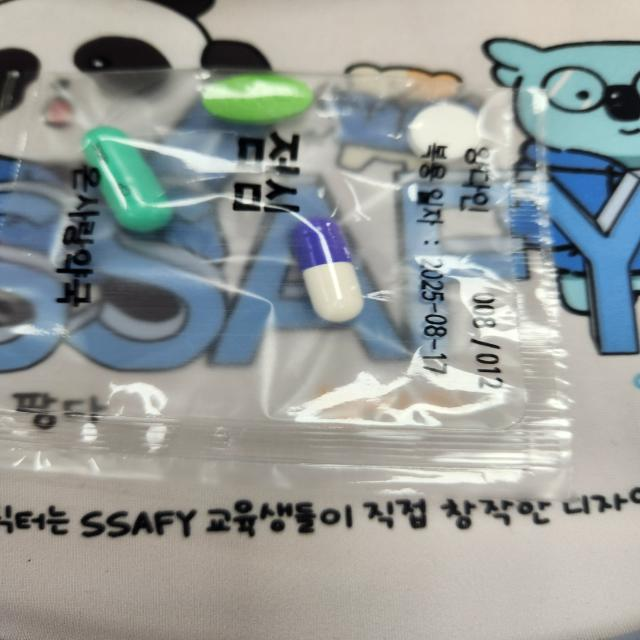러키펜정: (407, 97, 486, 163)
씨엠지세파클러캡슐: (288, 214, 364, 327)
에르도캡슐: (81, 127, 177, 236)
휴티렌정: (200, 71, 316, 126)
